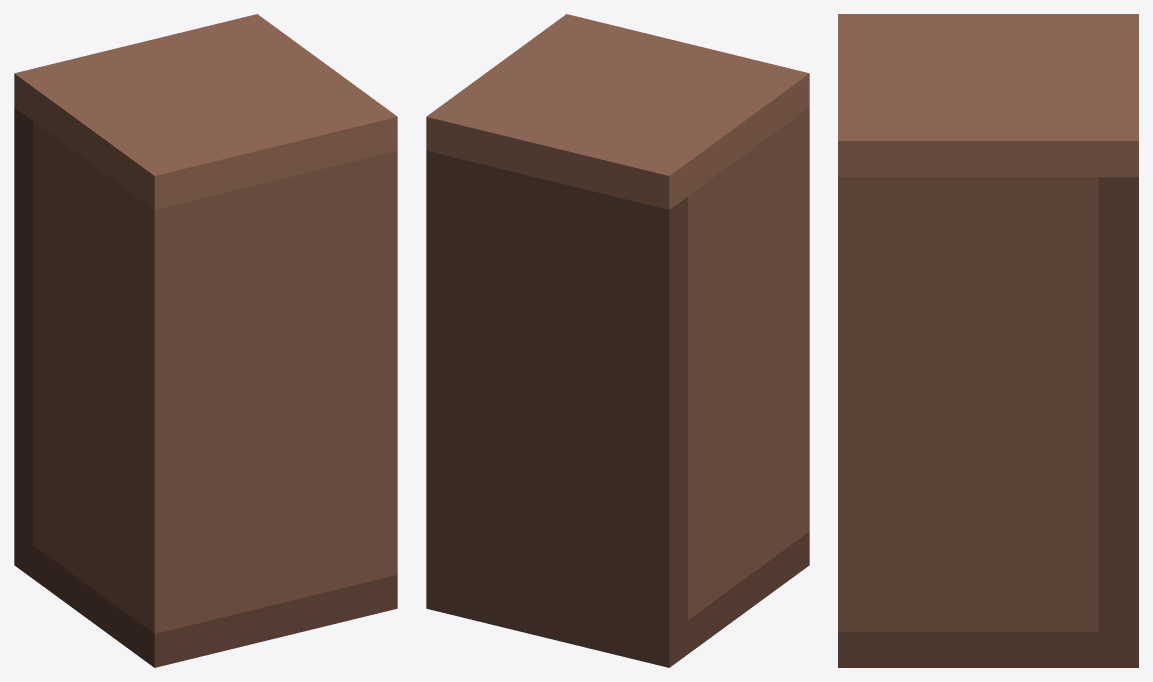
Rendered from vitrina_joyas_caoba_01.glb.
The picture shows the model from 3 angles, left to right: view 1: azimuth 30°, elevation 25°; view 2: azimuth 150°, elevation 25°; view 3: azimuth 270°, elevation 25°; orthographic projection. The views are drawn at different scales.
Visible parts, largest first — view 1: vitrina_joyas_caoba; view 2: vitrina_joyas_caoba; view 3: vitrina_joyas_caoba.
Part boxes in pixels (x1=…): vitrina_joyas_caoba: x1=14, y1=14, x2=397, y2=667; vitrina_joyas_caoba: x1=426, y1=14, x2=809, y2=667; vitrina_joyas_caoba: x1=838, y1=14, x2=1138, y2=667.
Size of the model in its own units: 1 by 1.93 by 1.
